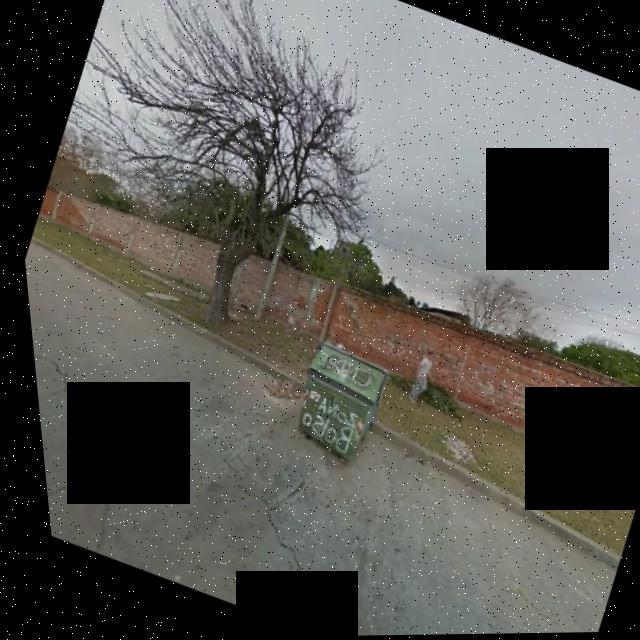bin: (251, 330, 400, 491)
